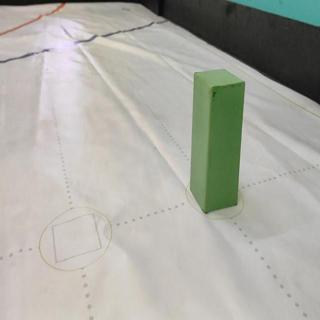greenbox: (187, 67, 247, 216)
